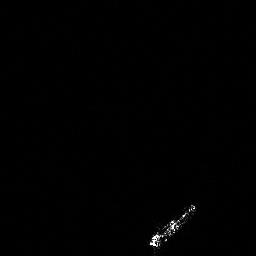ship: (147, 203, 197, 253)
